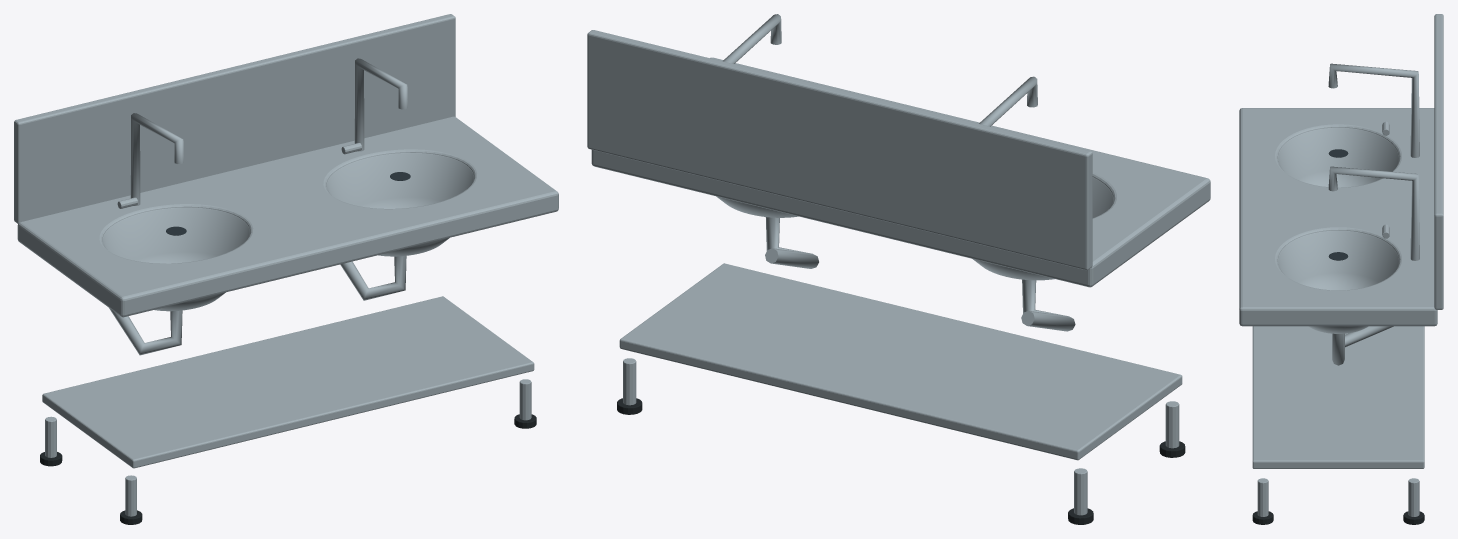
Rendered from SF_DoubleWashSink.fbx.
3 renders of one model, left to right at view 1: azimuth 30°, elevation 25°; view 2: azimuth 150°, elevation 25°; view 3: azimuth 270°, elevation 25°, orthographic. The views are drawn at different scales.
Visible parts, largest first — view 1: SF_DoubleWashSink; view 2: SF_DoubleWashSink; view 3: SF_DoubleWashSink.
Part boxes in pixels (<box>): SF_DoubleWashSink: <box>14,14,558,524</box>; SF_DoubleWashSink: <box>587,14,1210,524</box>; SF_DoubleWashSink: <box>1239,14,1443,524</box>.
Bounding box in the file's own units: 180 × 132 × 77.25.
